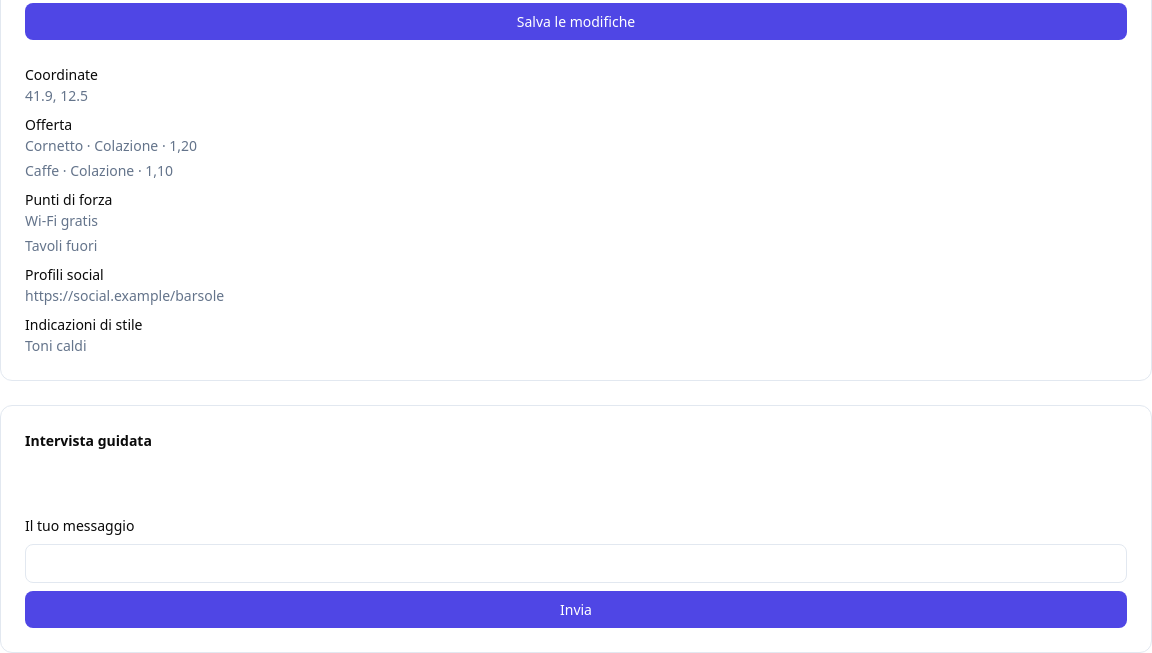
Test case: T-151 ChatPanel: turni assistente/utente › complete/readyForReview arrivano dal chunk e non sono ricalcolati nel client
(page scrolled)
Type "Ciao" into the field labelled "Il tuo messaggio" at (576, 564), box x1=25 y1=544 x2=1127 y2=583
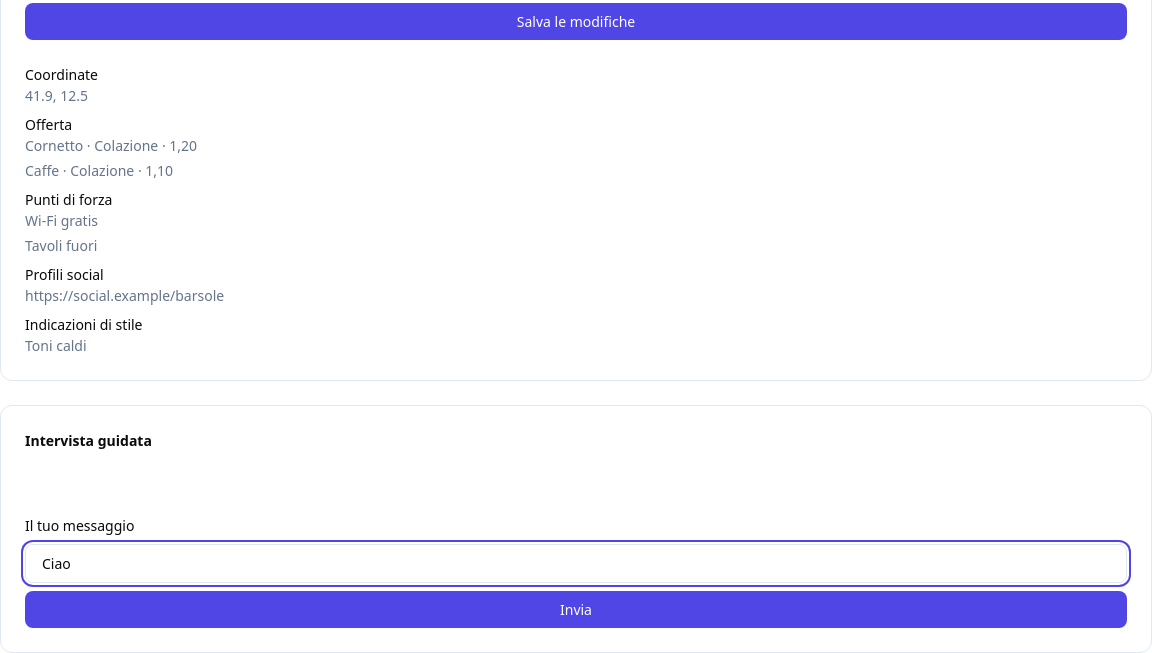
Click the button "Invia" at (576, 610), box x1=25 y1=591 x2=1127 y2=628
(page scrolled)
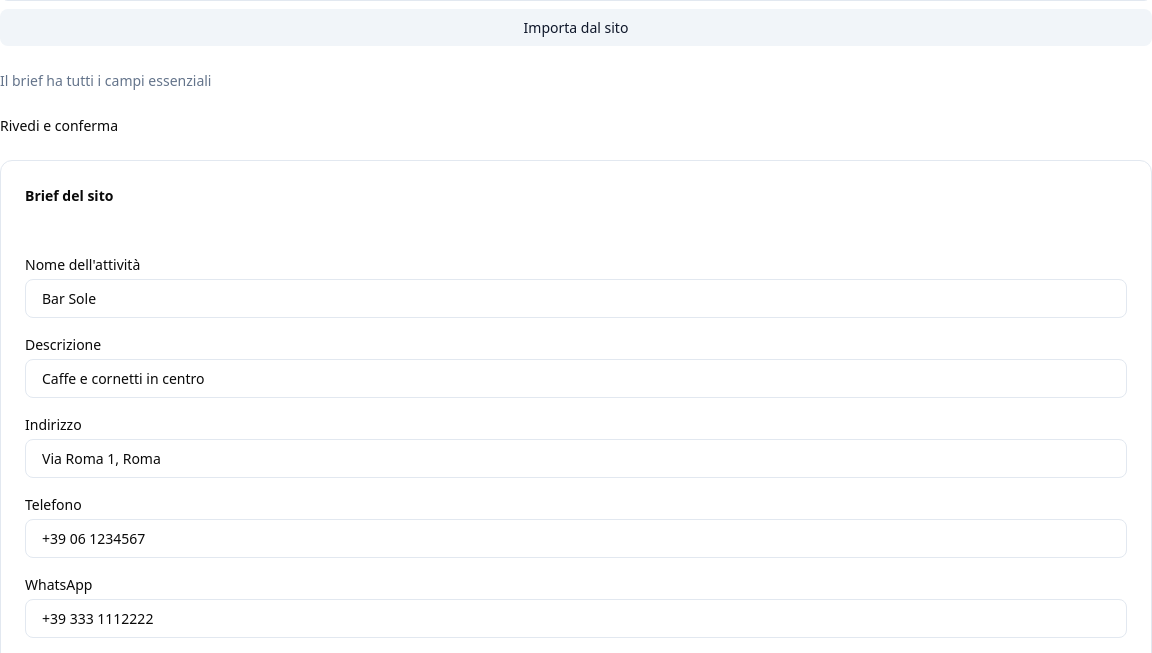
Result: the text "Il brief ha tutti i campi essenziali" is shown at x1=0 y1=71 x2=212 y2=90
